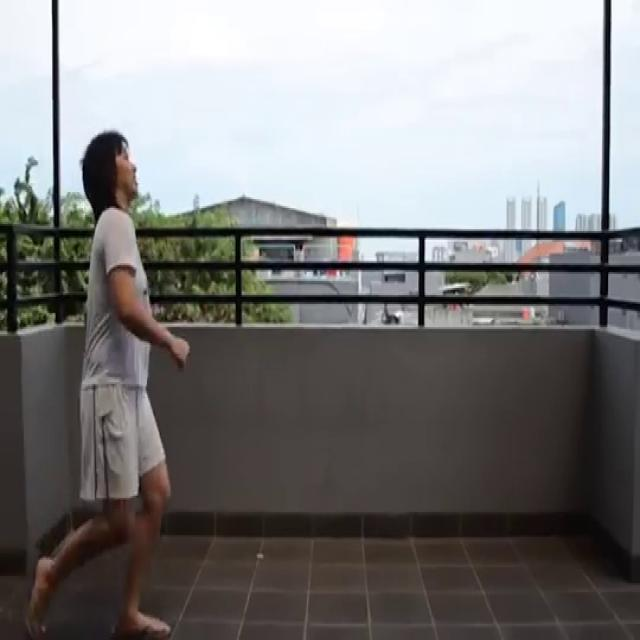normal: (30, 126, 198, 635)
